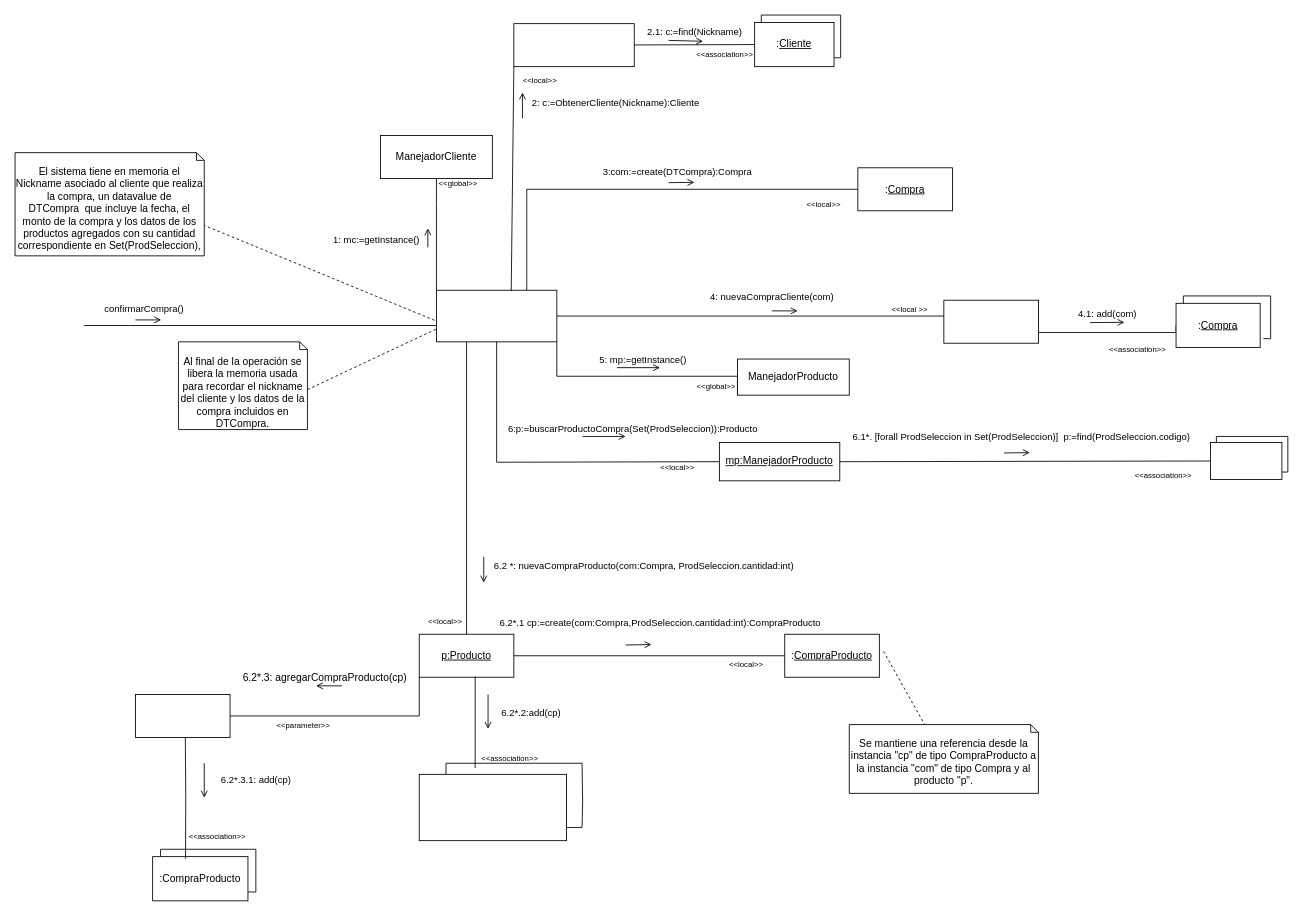
The diagram is 1304 pixels wide and 916 high, and some of its shapes have lost their labels. Each missing label, with the centre of its shape:
: ControladorCompra: pixel 496 315
: Producto: pixel 1246 460
c: Cliente: pixel 990 321
com: Compra: pixel 182 715
compraProducto:CompraProducto: pixel 492 807
mc:ManejadorCliente: pixel 573 45
